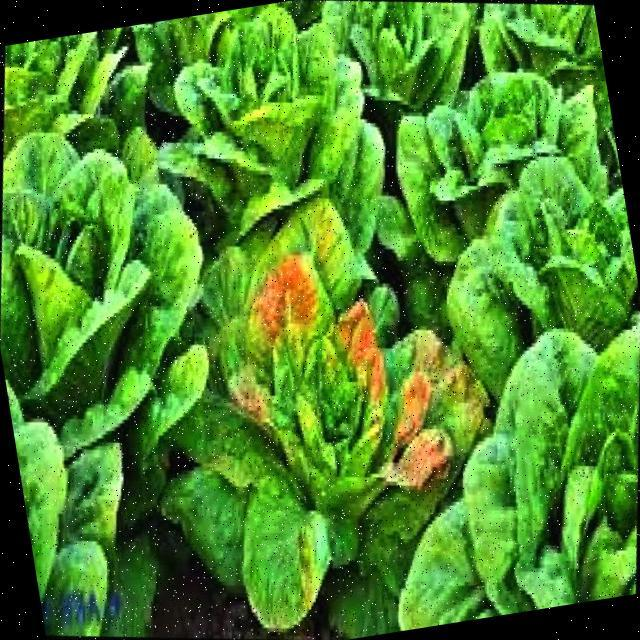Lettuce Mosaic Virus: (155, 190, 502, 603)
